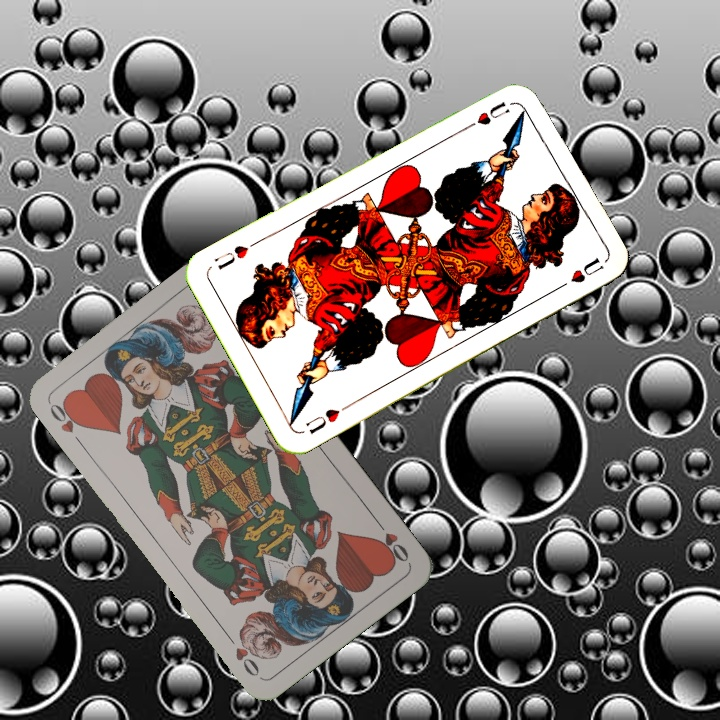HO: (371, 515, 412, 566), (45, 395, 87, 436)
HU: (302, 400, 352, 437), (473, 97, 513, 128)
